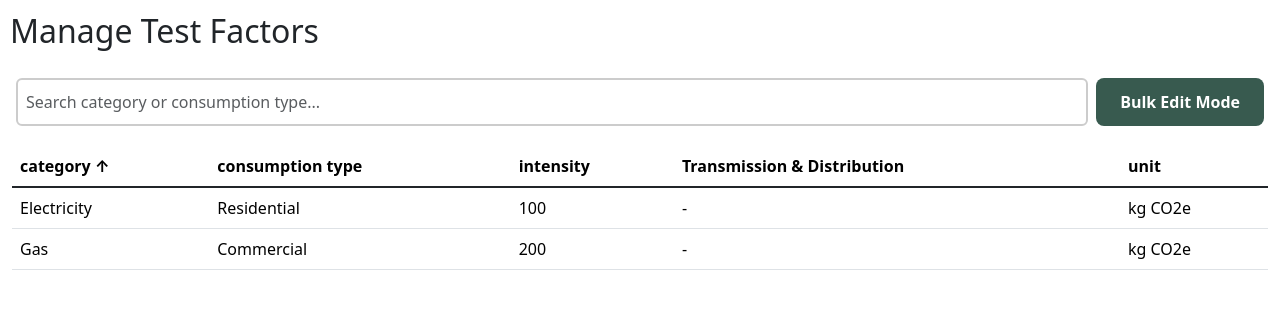
Scenario: FactorTable Component › toggles Bulk Edit Mode
The width and height of the screenshot is (1280, 327).
Click the button "Bulk Edit Mode": [1180, 102] box [1096,78,1264,126]
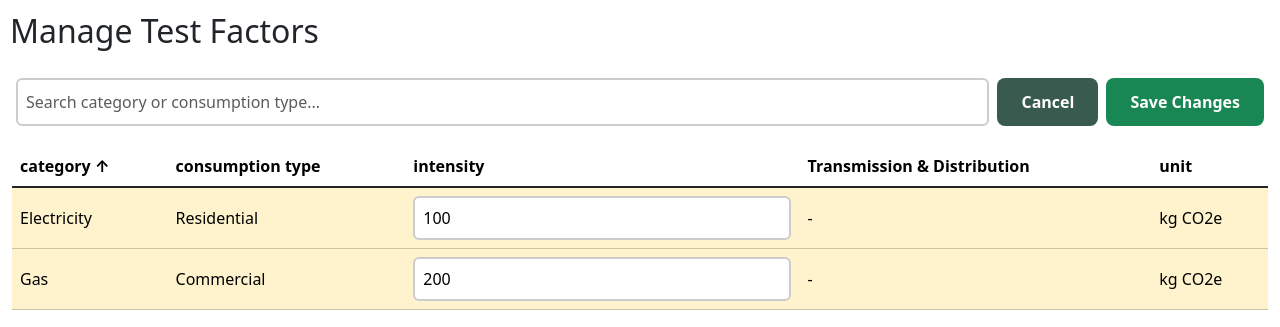
expect the button "Save Changes" is shown: met, box [1106,78,1264,126]
